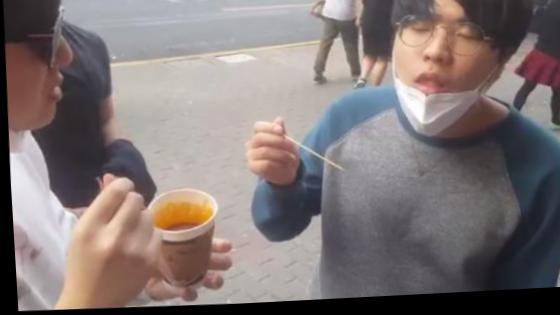WRONG: (386, 14, 507, 138), (1, 6, 80, 144)
